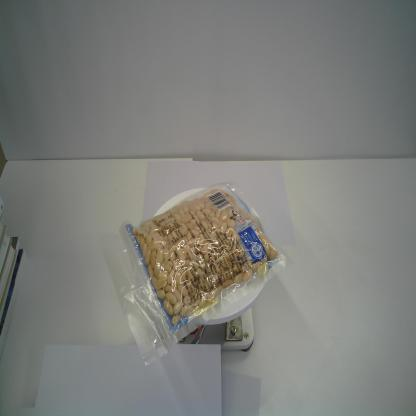Dried Fruit: (103, 181, 295, 366)
